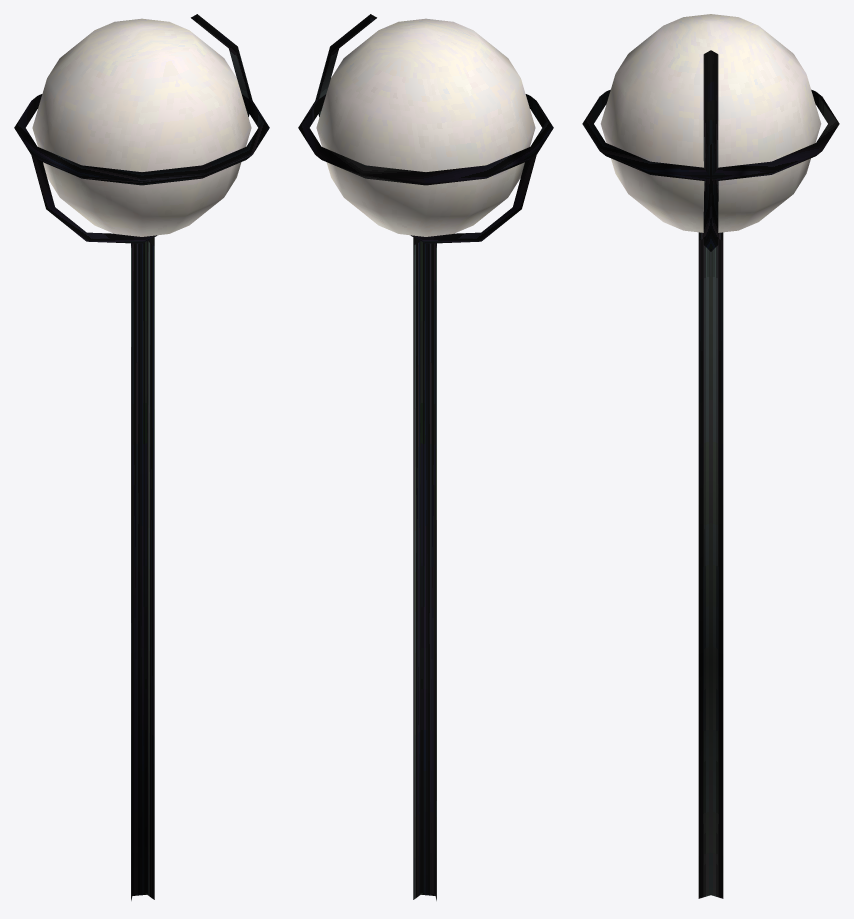
Rendered from frn_all_streetlamp_sm_s2_l0.fbx.
3 views of the same model, side by side, from view 1: azimuth 30°, elevation 25°; view 2: azimuth 150°, elevation 25°; view 3: azimuth 270°, elevation 25° (orthographic).
Visible parts, largest first — view 1: mesh_node; view 2: mesh_node; view 3: mesh_node.
Part boxes in pixels (bbox=[...]): mesh_node: bbox=[14, 14, 269, 900]; mesh_node: bbox=[298, 14, 553, 900]; mesh_node: bbox=[582, 14, 839, 898].
Bounding box in the file's own units: 0.7978 × 3 × 0.7978.
